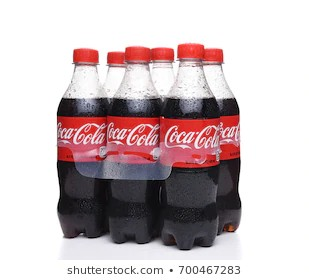coke-bottle-700ml: (160, 41, 219, 244), (104, 46, 160, 243), (56, 46, 107, 241)
